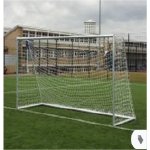goals: (16, 34, 138, 127)
